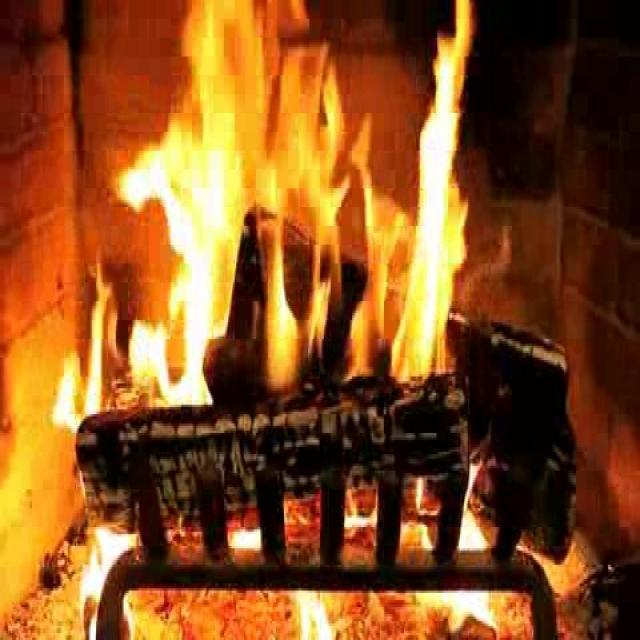Fire: (127, 0, 477, 424)
